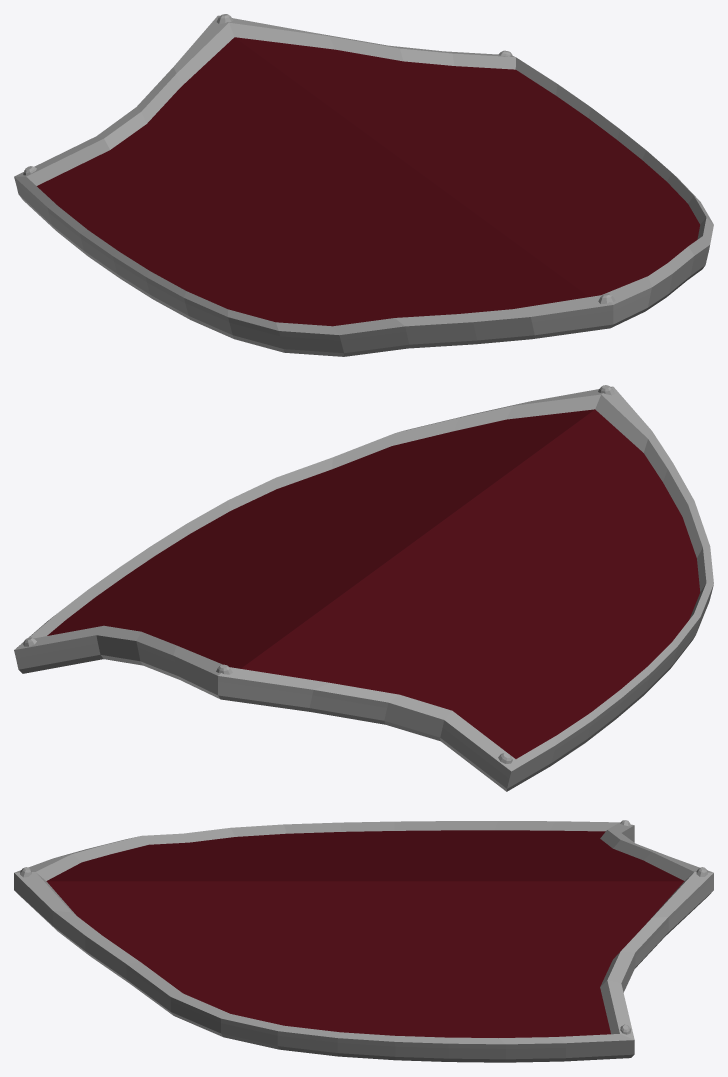
Rendered from shield.fbx.
The picture shows the model from 3 angles, top to bottom: view 1: azimuth 30°, elevation 25°; view 2: azimuth 150°, elevation 25°; view 3: azimuth 270°, elevation 25°; orthographic projection. The views are drawn at different scales.
Parts seen in each view (by area): view 1: Stylized Shield; view 2: Stylized Shield; view 3: Stylized Shield.
Boxes of the visible parts, x1=… form: Stylized Shield: x1=14, y1=14, x2=713, y2=356; Stylized Shield: x1=14, y1=385, x2=713, y2=791; Stylized Shield: x1=14, y1=820, x2=713, y2=1062.
Size of the model in its own units: 401 by 73.86 by 537.
